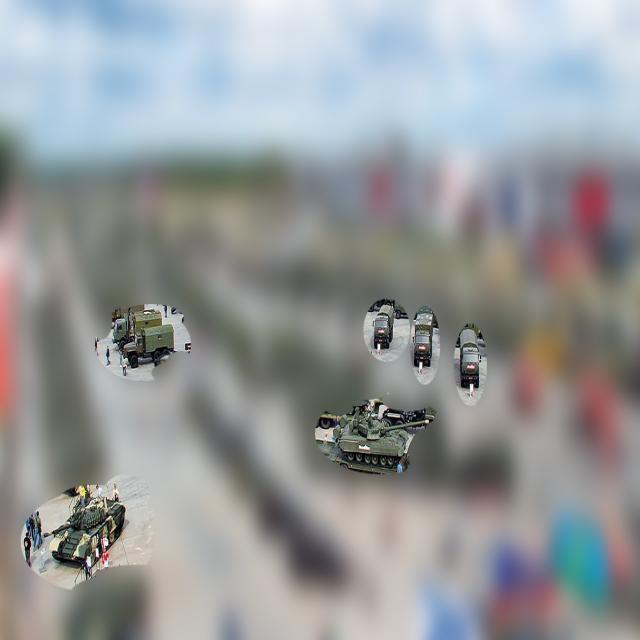Tanks: (39, 494, 128, 570), (331, 409, 432, 467)
